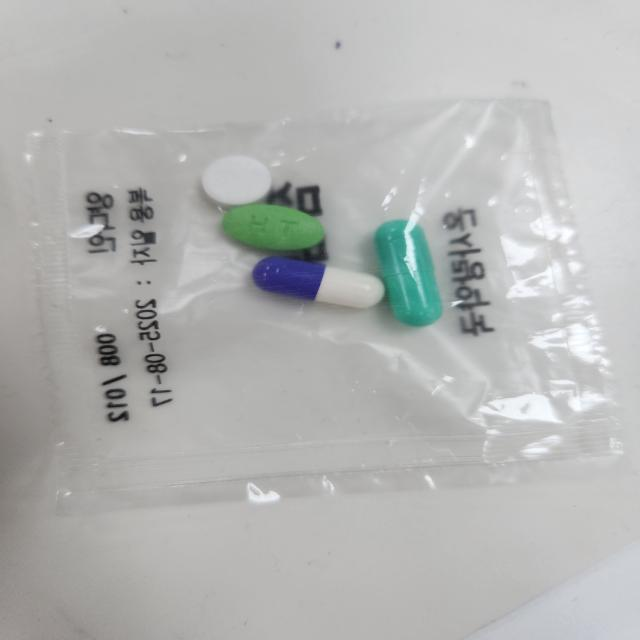러키펜정: (198, 154, 275, 211)
씨엠지세파클러캡슐: (252, 257, 385, 313)
에르도캡슐: (375, 216, 445, 329)
휴티렌정: (221, 204, 327, 257)
